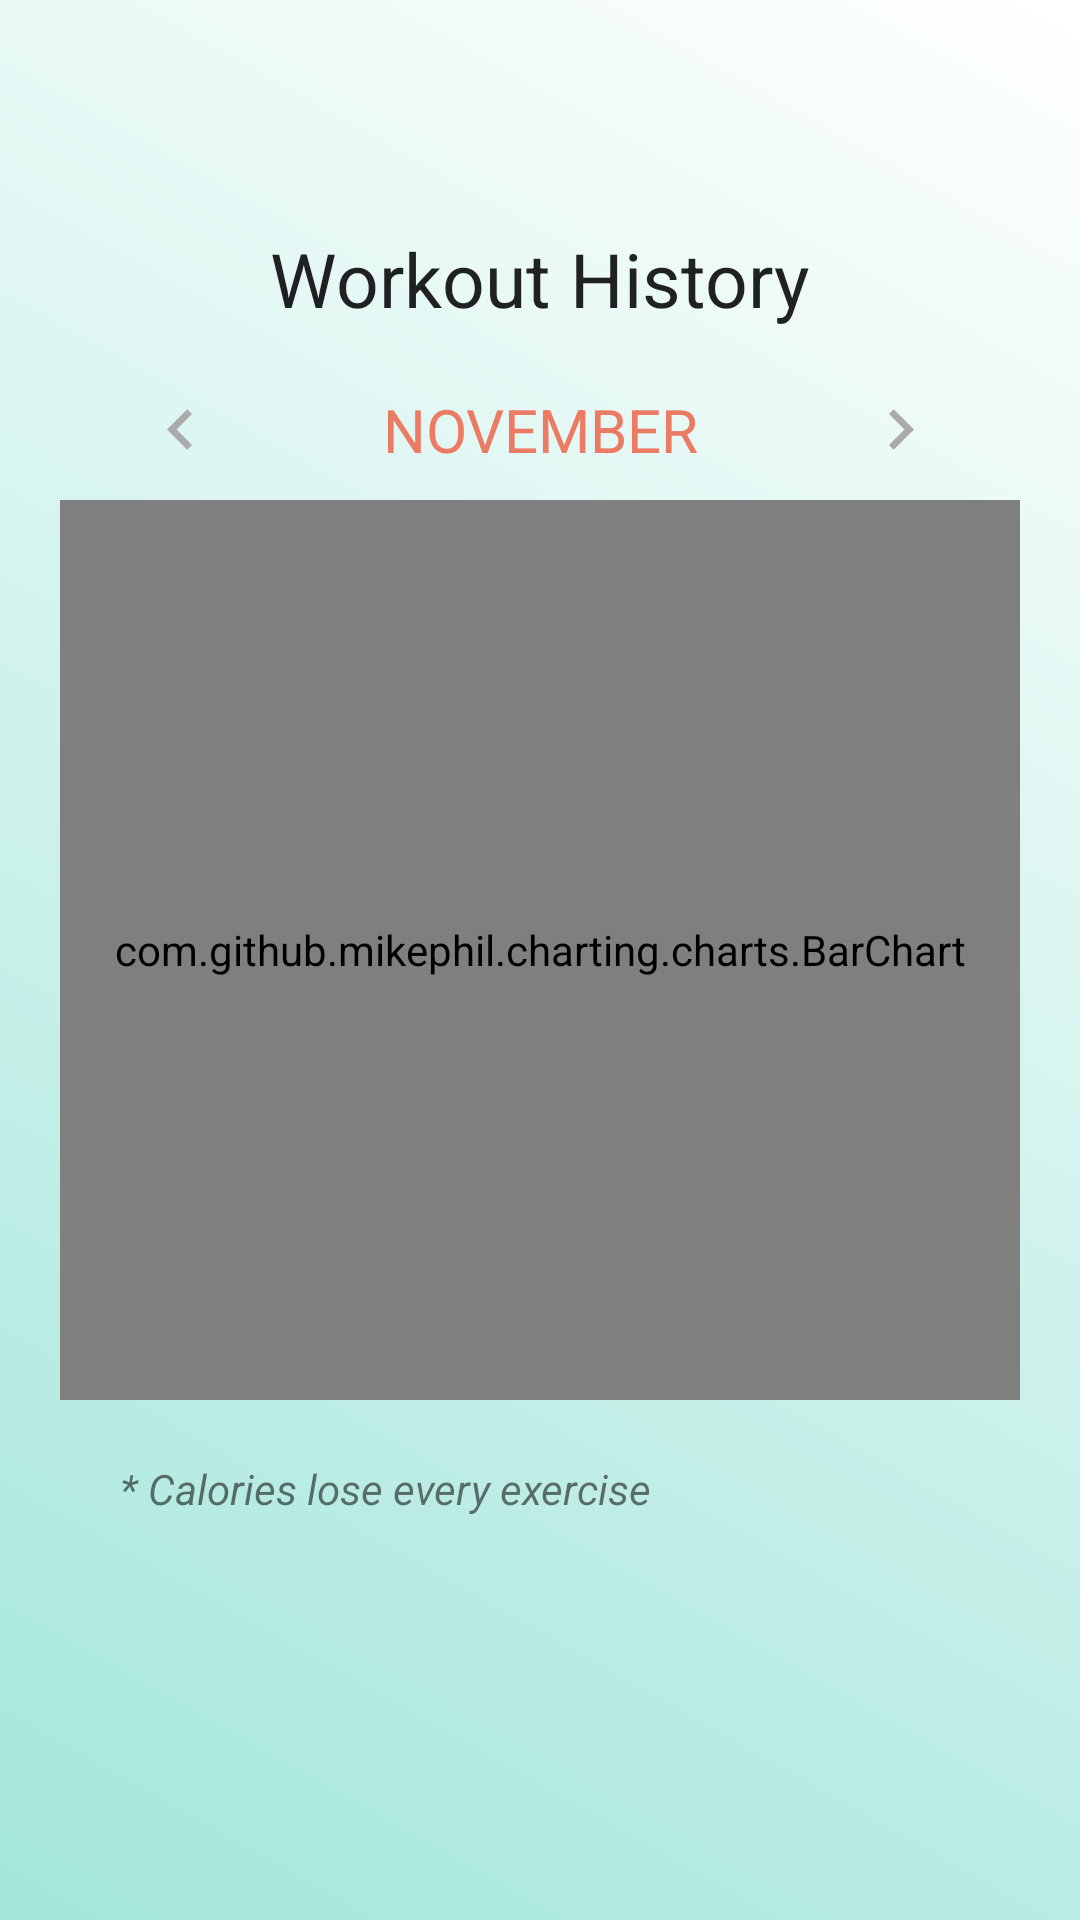

Screen size 1080x1920. Icon name, then its box in pixels as (x1, y1, x2, y2):
navigate before: (167, 409, 192, 450)
navigate next: (889, 409, 914, 450)
